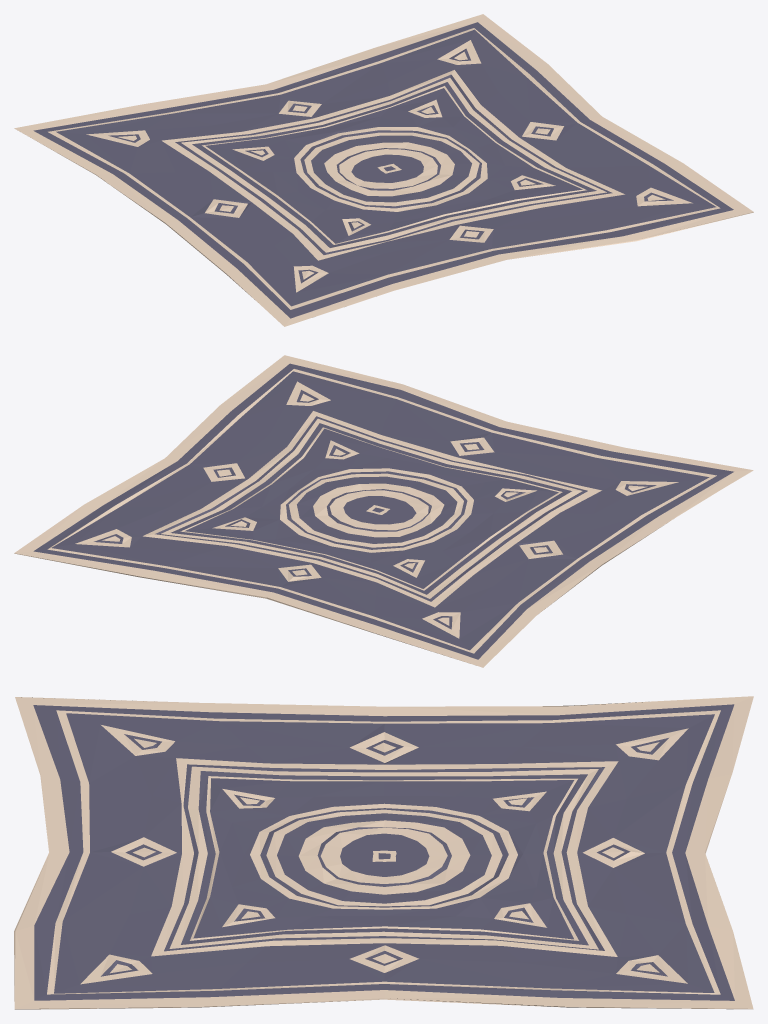
File: SFFA_Rug_002.fbx
3 views of the same model, one above another, from view 1: azimuth 30°, elevation 25°; view 2: azimuth 150°, elevation 25°; view 3: azimuth 270°, elevation 25° (orthographic). The views are drawn at different scales.
Parts seen in each view (by area): view 1: SFFA_Rug_002; view 2: SFFA_Rug_002; view 3: SFFA_Rug_002.
Boxes of the visible parts, box(x1,y1,x2,y2) form: SFFA_Rug_002: box(14, 14, 753, 326); SFFA_Rug_002: box(14, 355, 753, 667); SFFA_Rug_002: box(14, 696, 753, 1009).
Bounding box in the file's own units: 295 × 1.14 × 295.
